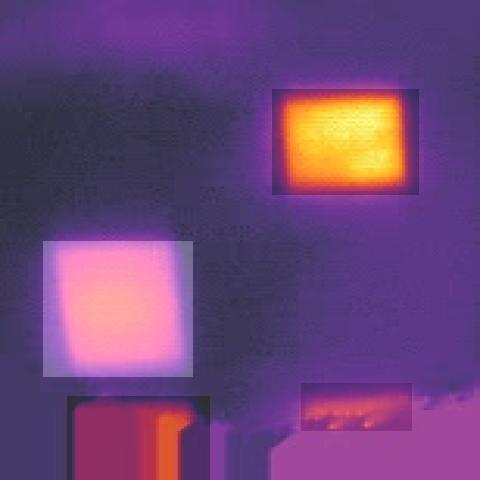fault: (43, 241, 193, 377), (272, 89, 419, 195), (67, 396, 210, 480), (301, 383, 412, 431)
